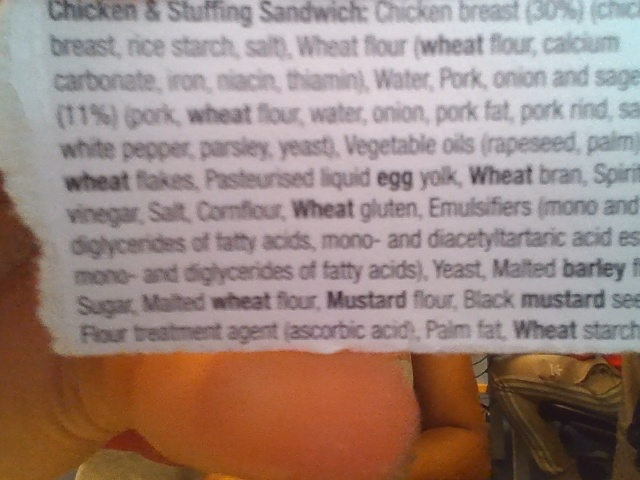egg: (374, 168, 415, 193)
wheat: (470, 161, 537, 188)
